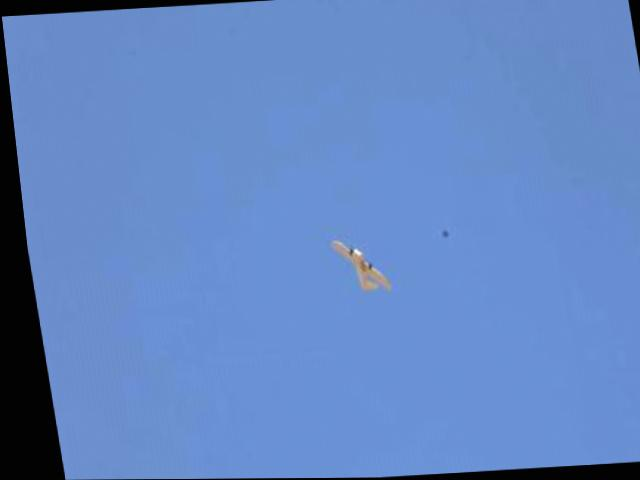uav: (322, 237, 386, 297)
